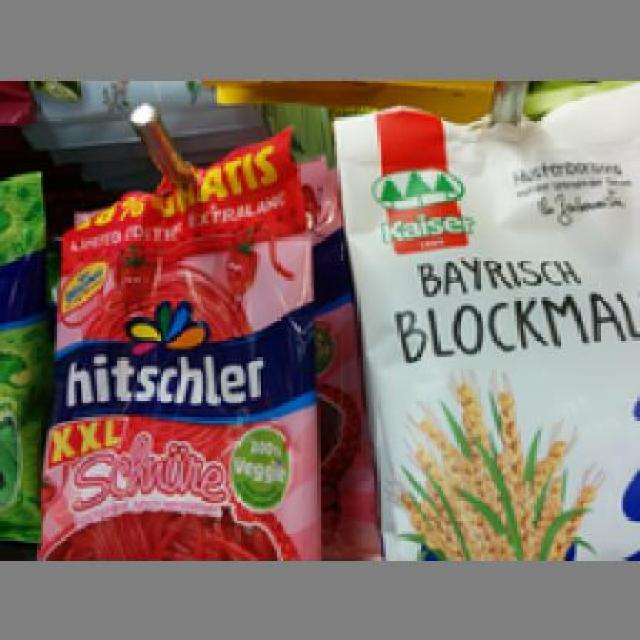Candy: (328, 91, 638, 554), (43, 129, 320, 560)
